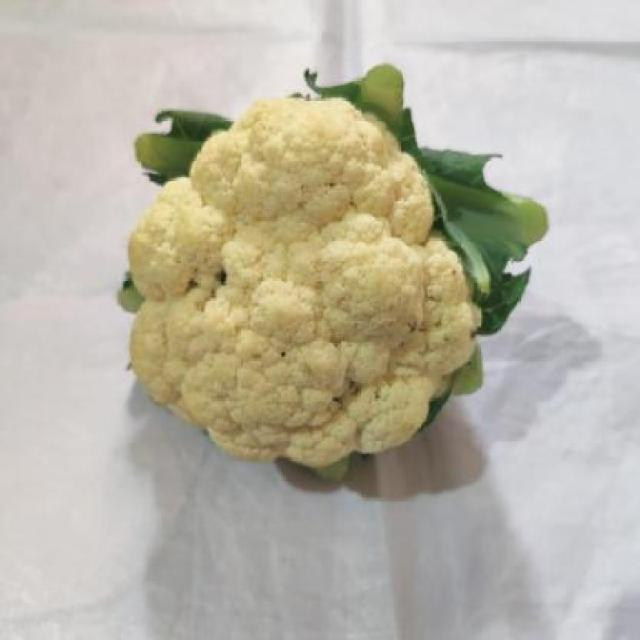Cauliflower: (92, 51, 557, 507)
